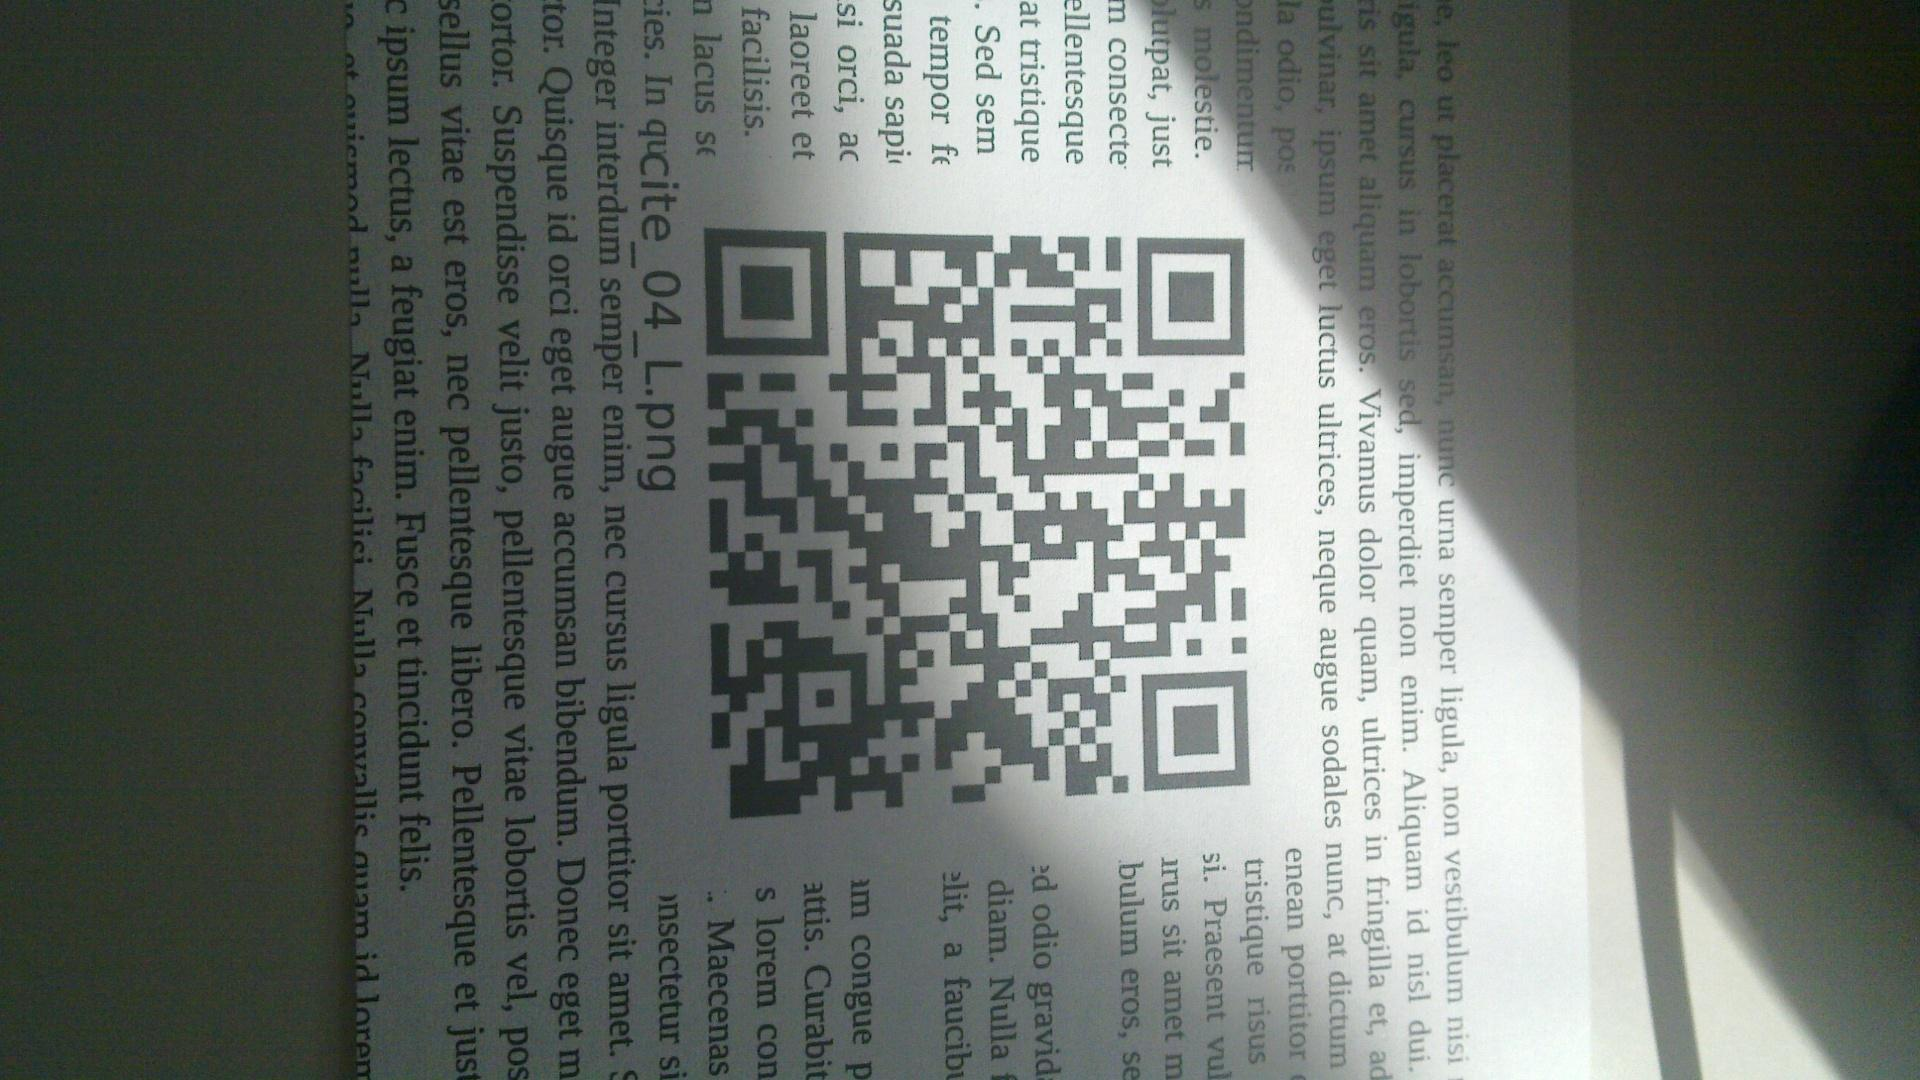Finder pattern: (698, 216, 837, 361), (1125, 228, 1251, 361), (1134, 665, 1255, 793)
